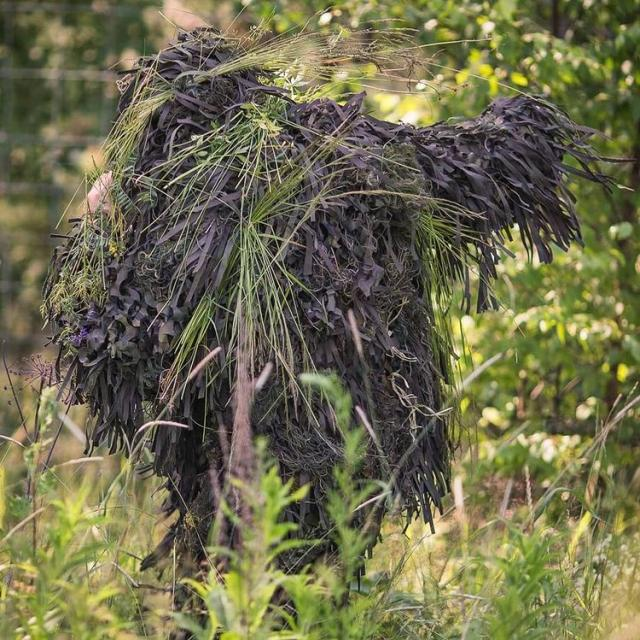Camouflage: (39, 26, 599, 620)
